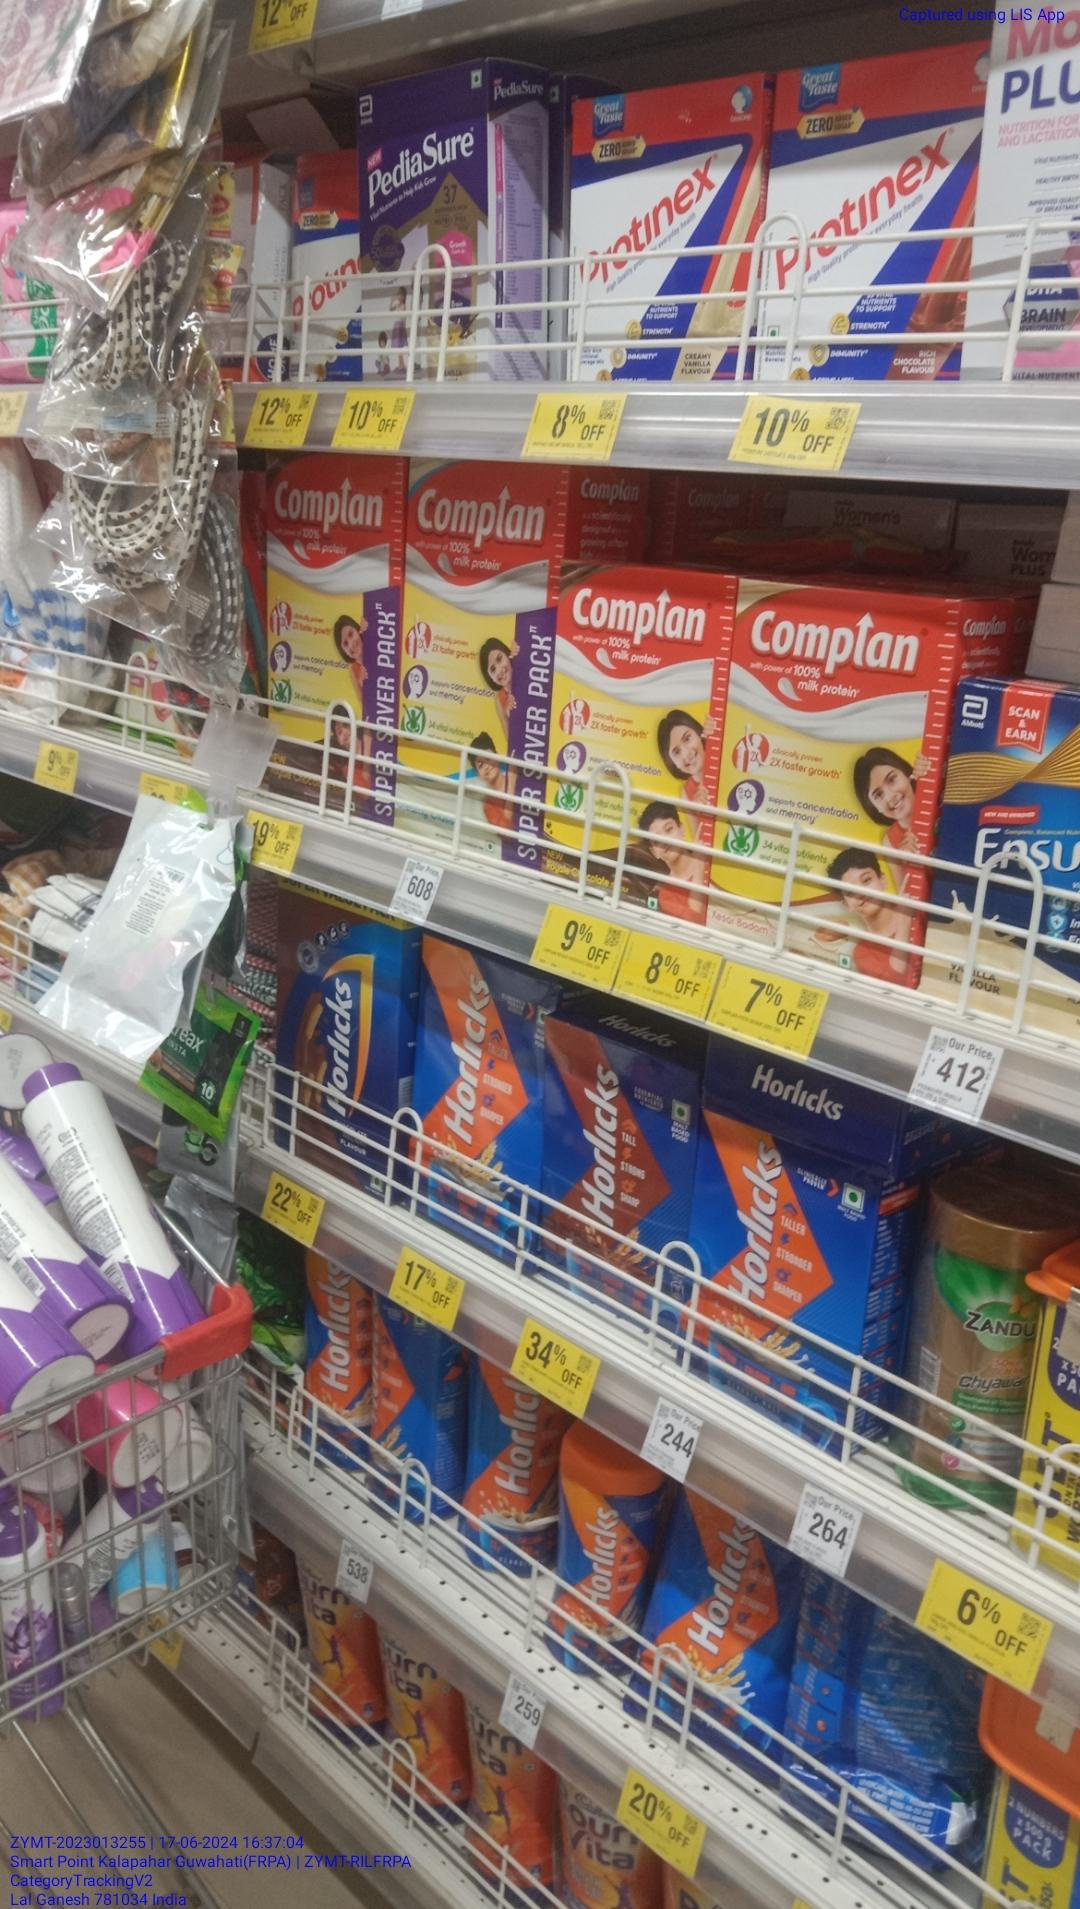COMPLAN_CHOCOLATE_1_KG_PACK: (266, 455, 392, 816)
COMPLAN_CHOCOLATE_500_GMS_PACK: (556, 568, 714, 918)
COMPLAN_KESAR_BADAM_500_GMS_PACK: (716, 583, 941, 975)
HORLICK_CHOCOLATE_500_G_PACK: (548, 1019, 691, 1319)
HORLICK_CLASSIC_MALT_500_G_PACK: (696, 1122, 862, 1409), (413, 947, 543, 1247)
PEDIASURE_VANILLA_500_G_PACK: (360, 73, 494, 388)
